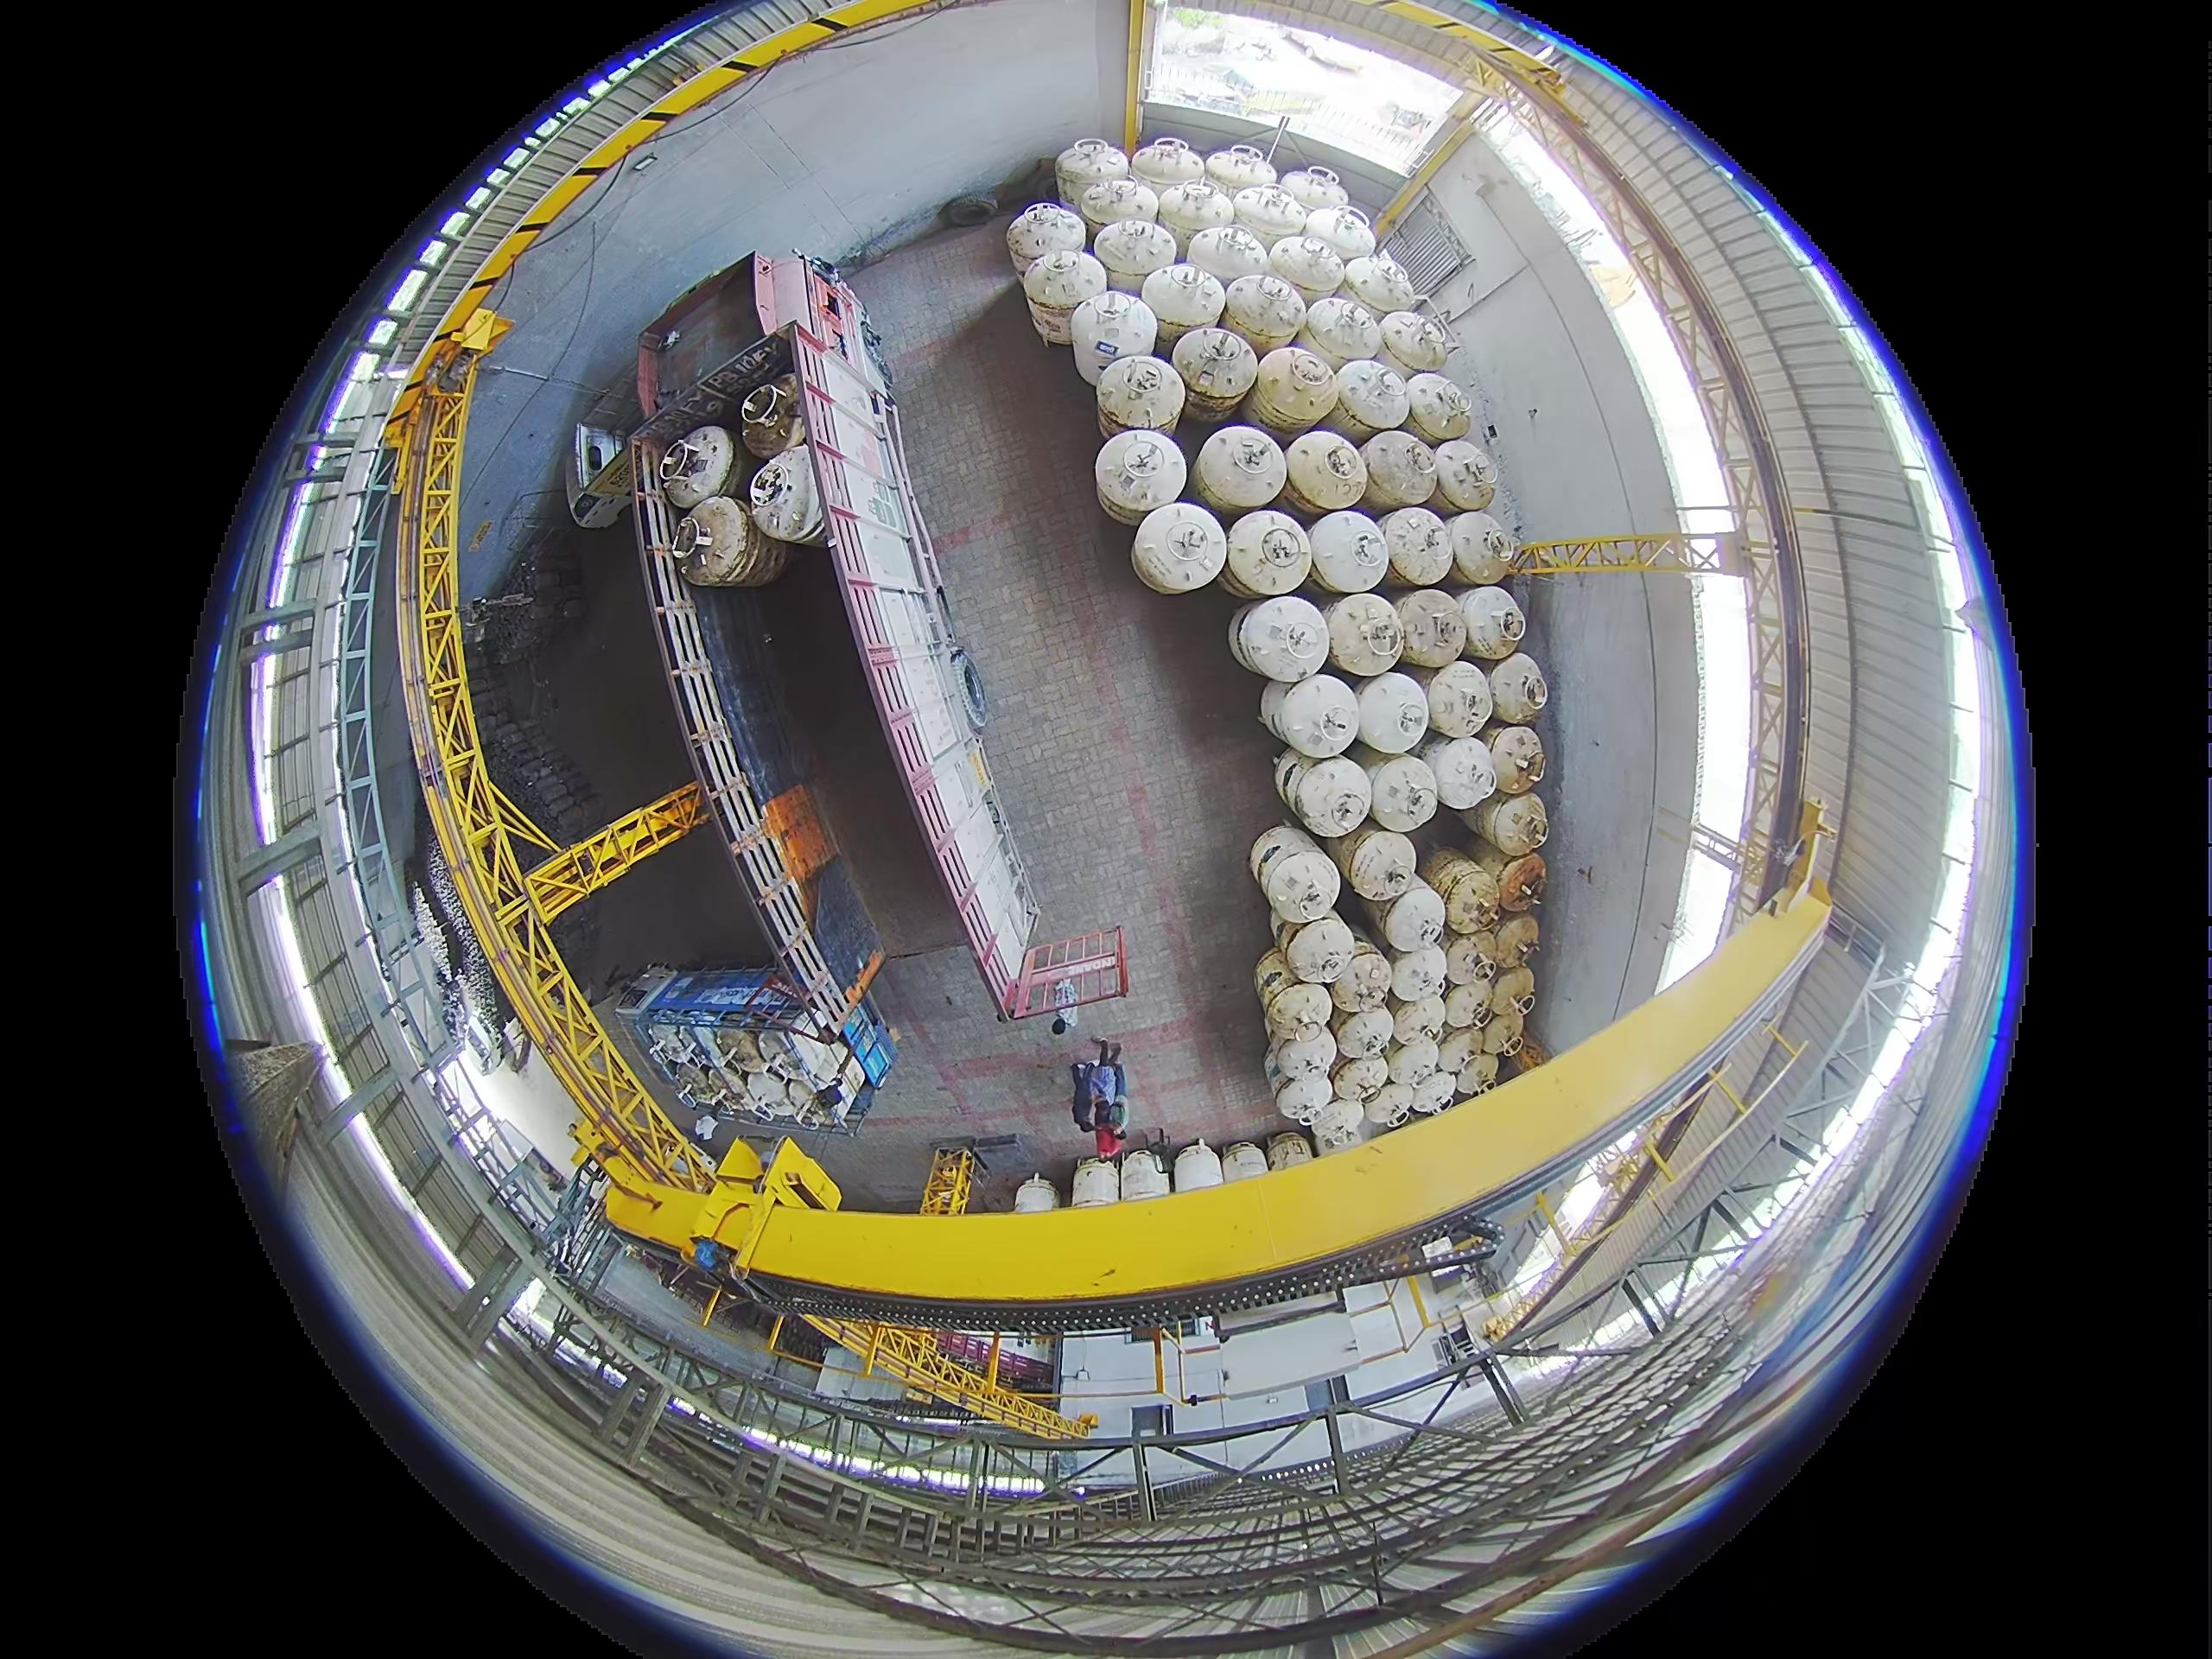cylinder: (678, 502, 792, 591), (1132, 502, 1228, 594), (1195, 423, 1287, 518), (1094, 430, 1184, 525), (747, 443, 829, 545), (1270, 671, 1362, 762), (1237, 594, 1331, 683), (1252, 347, 1341, 439), (1170, 326, 1258, 416), (1224, 511, 1312, 598), (1306, 509, 1392, 598), (1284, 430, 1369, 519), (1141, 261, 1226, 349), (1285, 755, 1376, 836), (1017, 251, 1096, 345), (1069, 291, 1151, 380), (1096, 352, 1181, 436), (1221, 272, 1308, 354), (1332, 821, 1420, 903), (1322, 592, 1406, 676), (1251, 819, 1336, 901), (1352, 671, 1430, 755), (660, 427, 738, 511), (1362, 429, 1440, 511), (1421, 732, 1498, 814), (1186, 221, 1273, 291), (1392, 589, 1468, 667), (1381, 505, 1456, 586), (1303, 295, 1383, 369), (1282, 915, 1362, 990), (1423, 659, 1496, 741), (1334, 359, 1411, 436), (1366, 753, 1440, 831), (1155, 179, 1233, 253), (1092, 220, 1174, 289), (1420, 849, 1493, 924), (1470, 788, 1548, 857), (1456, 586, 1527, 660), (1055, 138, 1130, 209), (1266, 232, 1345, 300), (1449, 511, 1521, 584), (1231, 185, 1310, 251), (738, 378, 805, 457), (1402, 371, 1472, 444), (1379, 878, 1449, 951), (1007, 202, 1082, 270), (1076, 174, 1153, 240), (1339, 251, 1418, 315), (1432, 439, 1500, 512), (1482, 652, 1548, 723), (1482, 723, 1547, 796), (1303, 204, 1378, 267), (1129, 138, 1204, 200), (1378, 310, 1447, 376), (644, 1028, 733, 1079), (1327, 948, 1395, 1012), (1264, 981, 1334, 1040), (1205, 145, 1278, 199), (1388, 948, 1451, 1011), (1442, 932, 1503, 993), (1332, 1007, 1397, 1065), (1277, 166, 1348, 216), (1385, 1037, 1444, 1094), (1273, 1070, 1334, 1126), (1271, 748, 1324, 812), (1271, 1032, 1332, 1086), (1331, 1053, 1390, 1107), (1310, 1094, 1367, 1148), (1484, 964, 1536, 1023), (1496, 854, 1548, 913), (1440, 981, 1496, 1033), (1362, 1082, 1420, 1133), (1477, 1007, 1529, 1061), (1491, 913, 1541, 969), (1435, 1025, 1482, 1077), (744, 1066, 792, 1115), (1411, 1070, 1458, 1115), (1273, 913, 1317, 960), (1266, 1131, 1315, 1173), (777, 1032, 833, 1068), (1456, 1051, 1498, 1093), (714, 1030, 765, 1061)
truck: (634, 256, 1035, 1021), (570, 1115, 1157, 1399), (617, 971, 895, 1230), (1487, 1114, 1705, 1331), (416, 1054, 557, 1244), (751, 251, 890, 410), (799, 850, 895, 1032), (754, 782, 841, 915), (566, 422, 631, 528)
